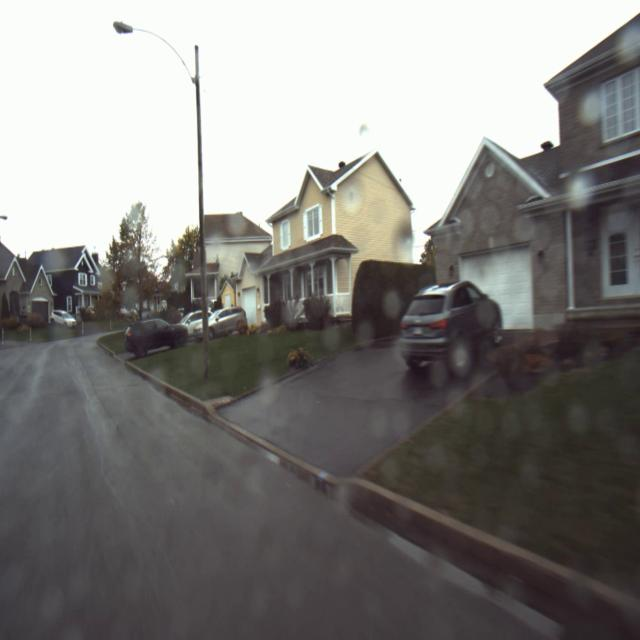car: (392, 273, 514, 373)
